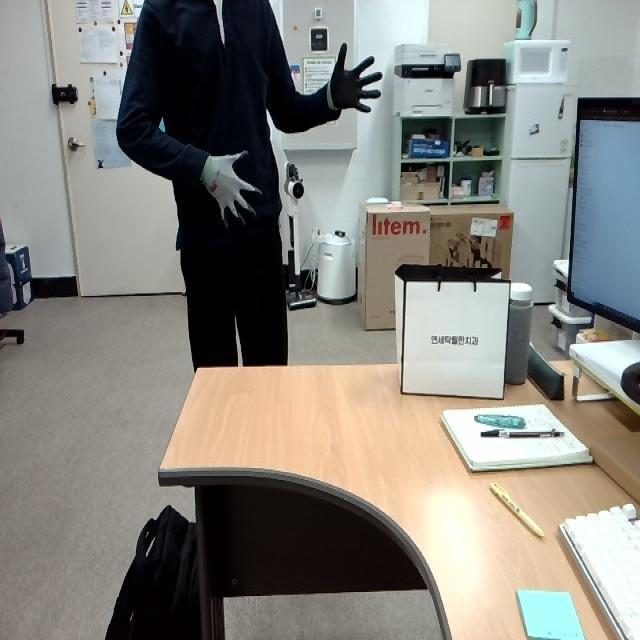gloved_hand: (196, 143, 269, 229), (323, 35, 382, 120)
